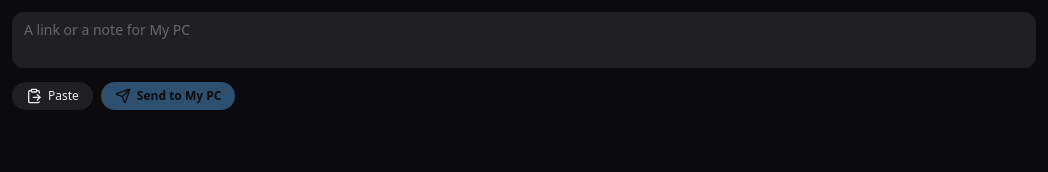
Scenario: handoff › sends a lone web link as a link and anything else as text
Later steps or results of the test are not shown.
In the text box named "Send to My PC": {"x": 524, "y": 40} left=12, top=12, right=1036, bottom=68, type "https://example.com/recipe"
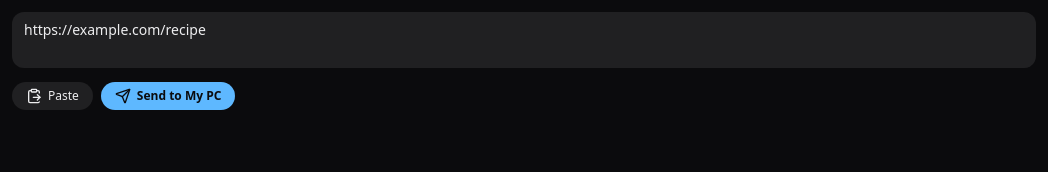
Click the button "Send to My PC": {"x": 168, "y": 96} left=101, top=82, right=235, bottom=110
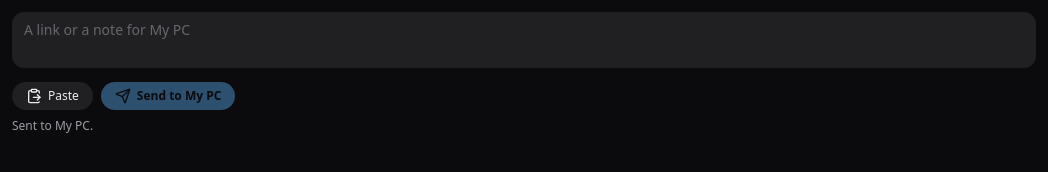
Now the text "Sent to My PC." is shown, box left=12, top=117, right=93, bottom=134
